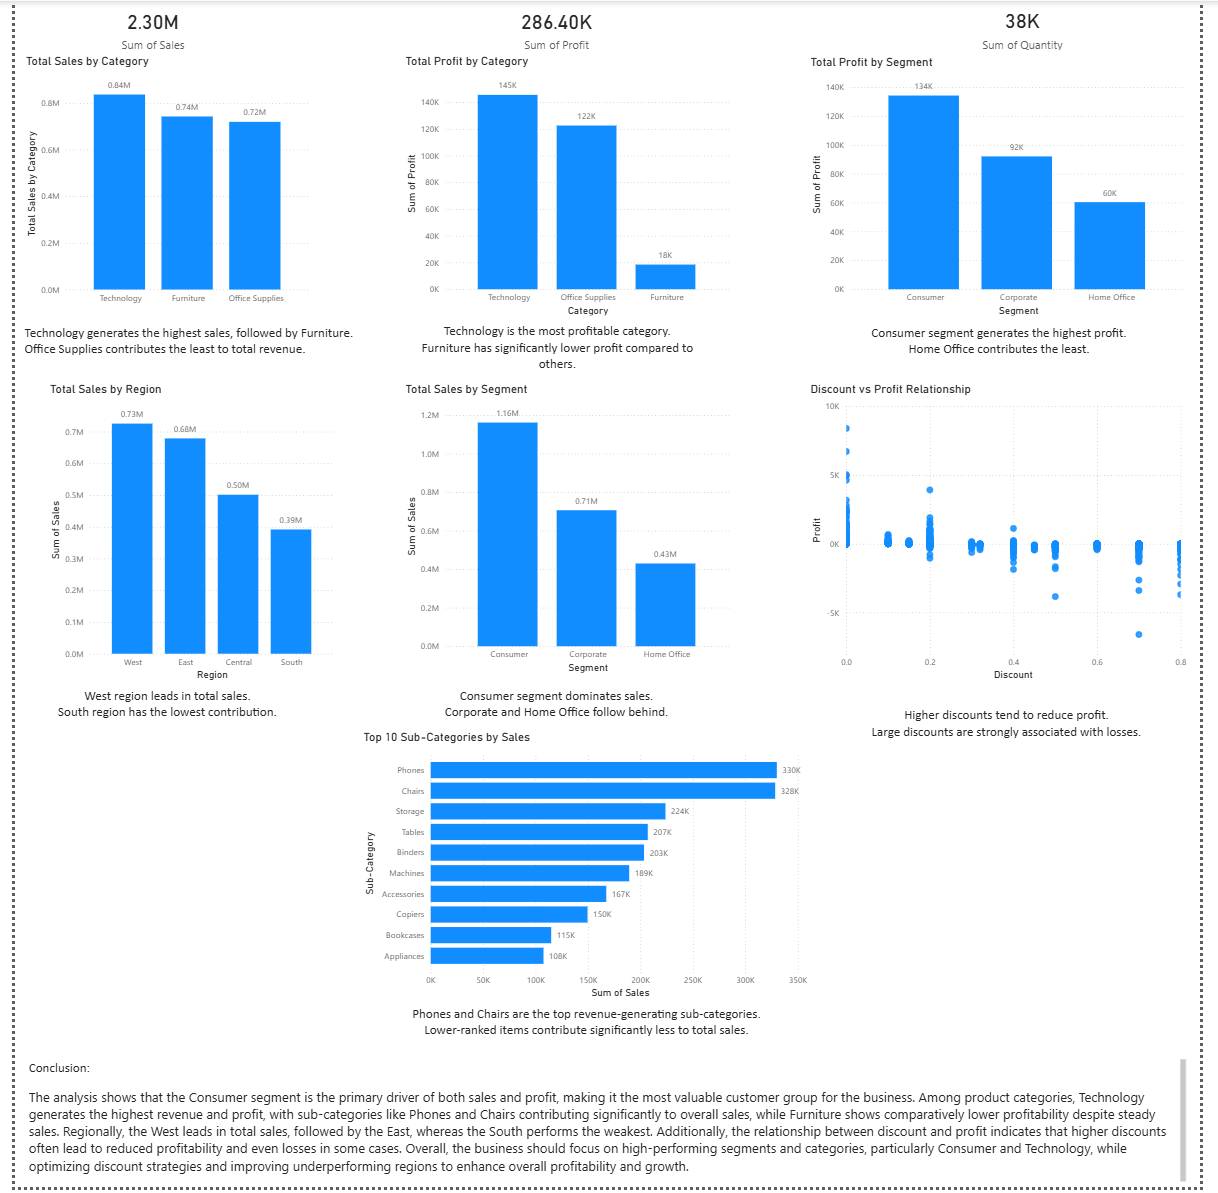

What the dashboard file says about the page in this screenshot:
{"tool":"powerbi","page":{"name":"Page 1","canvas":[1700,1700],"ordinal":0},"visuals":[{"type":"card","fields":{"Values":["Sum(sales_data.Sales)"]},"box":[121.7,0,149.9,76.4],"z":0},{"type":"card","fields":{"Values":["Sum(sales_data.Quantity)"]},"box":[1369.6,0,148.4,75.3],"z":1000},{"type":"card","fields":{"Values":["Sum(sales_data.Profit)"]},"box":[701.9,0,150.2,75.9],"z":2000},{"type":"clusteredColumnChart","title":"Total Sales by Category","fields":{"Category":["sales_data.Category"],"Y":["Sum(sales_data.Sales)"]},"box":[11.1,75.9,417.4,381],"z":3000},{"type":"textbox","box":[8.6,458,485.9,64.5],"z":4000},{"type":"clusteredColumnChart","title":"Total Profit by Category","fields":{"Category":["sales_data.Category"],"Y":["Sum(sales_data.Profit)"]},"box":[554.7,75.3,475.2,380.6],"z":5000},{"type":"textbox","box":[554.5,455.3,445.2,91.1],"z":6000},{"type":"clusteredColumnChart","title":"Total Sales by Region","fields":{"Category":["sales_data.Region"],"Y":["Sum(sales_data.Sales)"]},"box":[45.2,546.1,417.1,432.2],"z":7000},{"type":"textbox","box":[16.2,977.4,402.7,76.9],"z":8000},{"type":"clusteredColumnChart","title":"Total Profit by Segment","fields":{"Category":["sales_data.Segment"],"Y":["Sum(sales_data.Profit)"]},"box":[1135.3,77.4,548.3,378.4],"z":9000},{"type":"textbox","box":[1197.6,458,425.7,66.7],"z":10000},{"type":"clusteredColumnChart","title":"Total Sales by Segment","fields":{"Category":["sales_data.Segment"],"Y":["Sum(sales_data.Sales)"]},"box":[554.7,546.1,475.2,421.4],"z":11000},{"type":"textbox","box":[588.9,977.4,374.4,66.8],"z":12000},{"type":"scatterChart","title":"Discount vs Profit Relationship","fields":{"X":["sales_data.Discount"],"Y":["sales_data.Profit"]},"box":[1135.3,546.1,548.3,432.2],"z":13000},{"type":"textbox","box":[1158.9,1006.3,524.6,77.4],"z":14000},{"type":"clusteredBarChart","title":"Top 10 Sub-Categories by Sales","fields":{"Category":["sales_data.Sub-Category"],"Y":["Sum(sales_data.Sales)"]},"box":[494.5,1045,664.4,389.2],"z":15000},{"type":"textbox","box":[554.7,1434.1,528.9,77.4],"z":16000},{"type":"textbox","box":[15.1,1511.5,1668.5,189.2],"z":17000}]}

Visuals, with their boxes in screenshot pixels (x1, y1, x2, y2), scaled from the page's 1700x1700 canvas onto the 1218x1193 screenshot:
card - Sum(sales_data.Sales): [87,0,195,54]
card - Sum(sales_data.Quantity): [981,0,1088,53]
card - Sum(sales_data.Profit): [503,0,611,53]
"Total Sales by Category" clusteredColumnChart: [8,53,307,321]
textbox: [6,321,354,367]
"Total Profit by Category" clusteredColumnChart: [397,53,738,320]
textbox: [397,320,716,383]
"Total Sales by Region" clusteredColumnChart: [32,383,331,687]
textbox: [12,686,300,740]
"Total Profit by Segment" clusteredColumnChart: [813,54,1206,320]
textbox: [858,321,1163,368]
"Total Sales by Segment" clusteredColumnChart: [397,383,738,679]
textbox: [422,686,690,733]
"Discount vs Profit Relationship" scatterChart: [813,383,1206,687]
textbox: [830,706,1206,761]
"Top 10 Sub-Categories by Sales" clusteredBarChart: [354,733,830,1006]
textbox: [397,1006,776,1061]
textbox: [11,1061,1206,1192]
